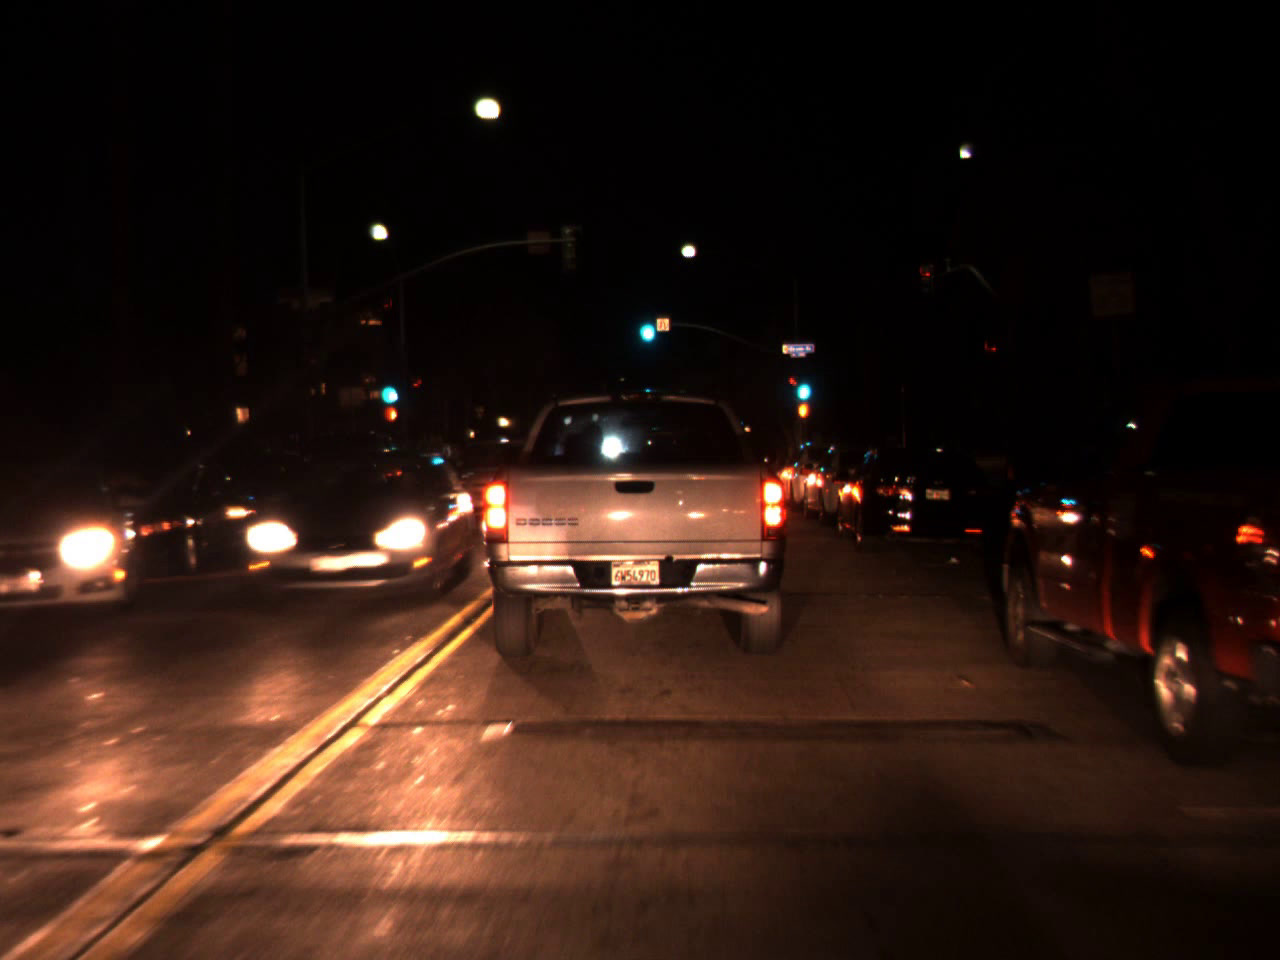go: (634, 301, 657, 349), (376, 367, 399, 409), (792, 364, 813, 406)
